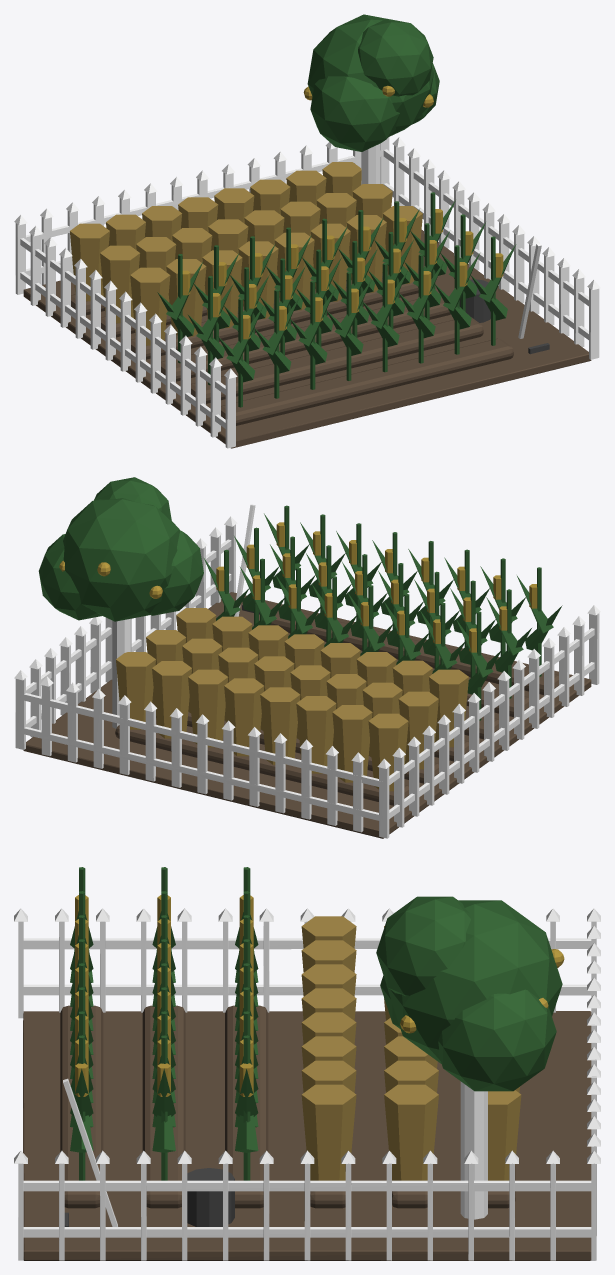
File: bahce3.glb
3 renders of one model, top to bottom at view 1: azimuth 30°, elevation 25°; view 2: azimuth 150°, elevation 25°; view 3: azimuth 270°, elevation 25°, orthographic. The views are drawn at different scales.
Parts seen in each view (by area): view 1: AgacGovde; view 2: AgacGovde; view 3: AgacGovde.
Boxes of the visible parts, box(x1,y1,x2,y2) form: AgacGovde: box(14, 14, 600, 448); AgacGovde: box(14, 477, 600, 838); AgacGovde: box(14, 867, 600, 1260).
Bounding box in the file's own units: 1 × 0.6066 × 0.9807.
